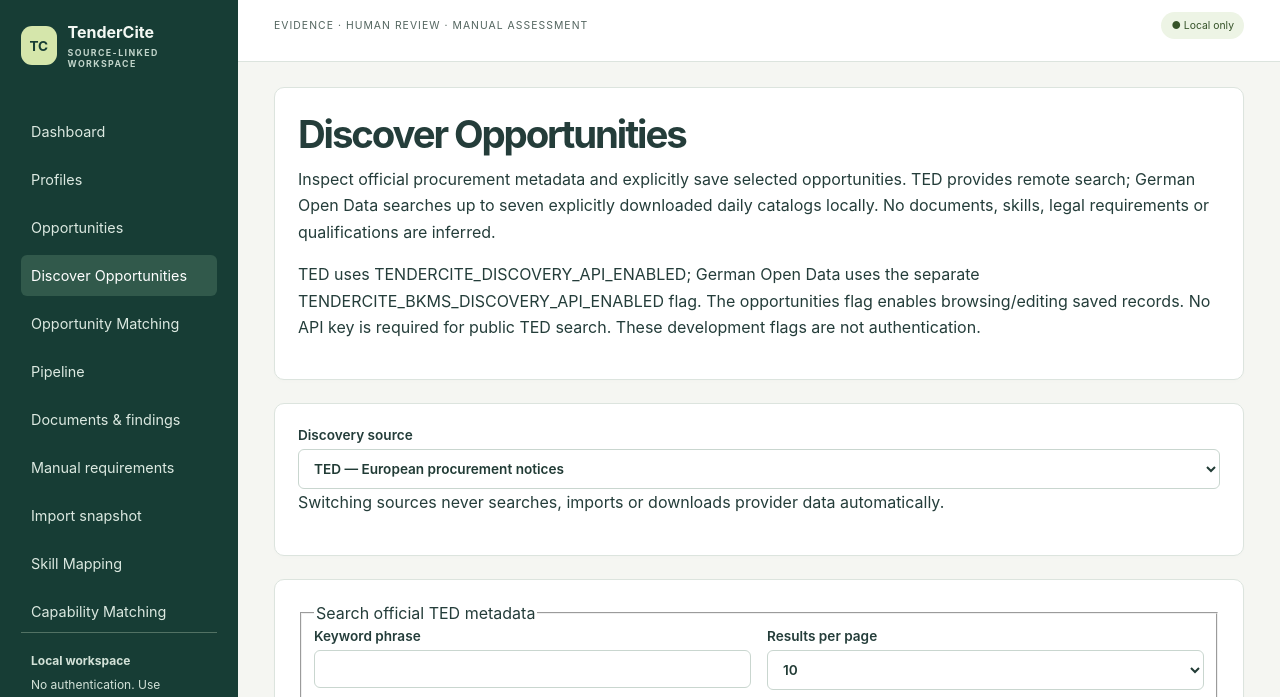
Test: empty results are explicitly scoped to the loaded catalog
Select "German Bekanntmachungsservice — public procurement" in the dropdown labelled "Discovery source" at (759, 469), box [298,449,1220,489]
(page scrolled)
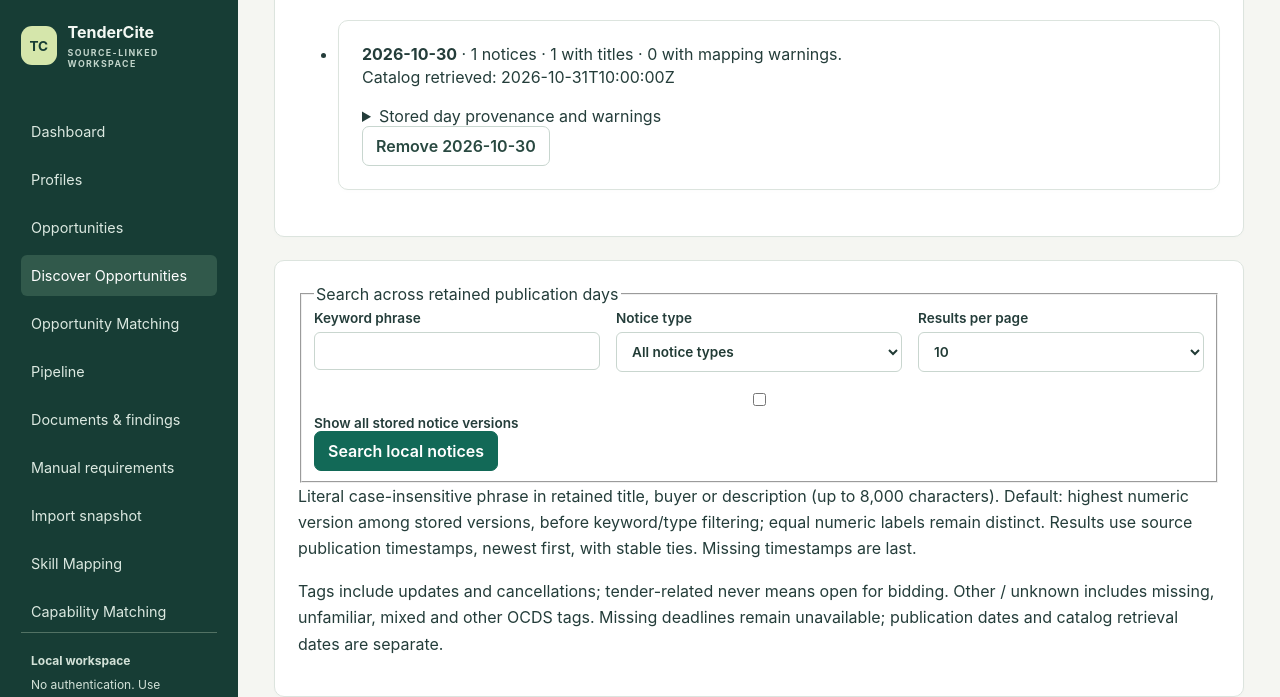
Type "Software" into the field labelled "Keyword phrase".
click(457, 351); type("Software")  # box [314,332,600,370]
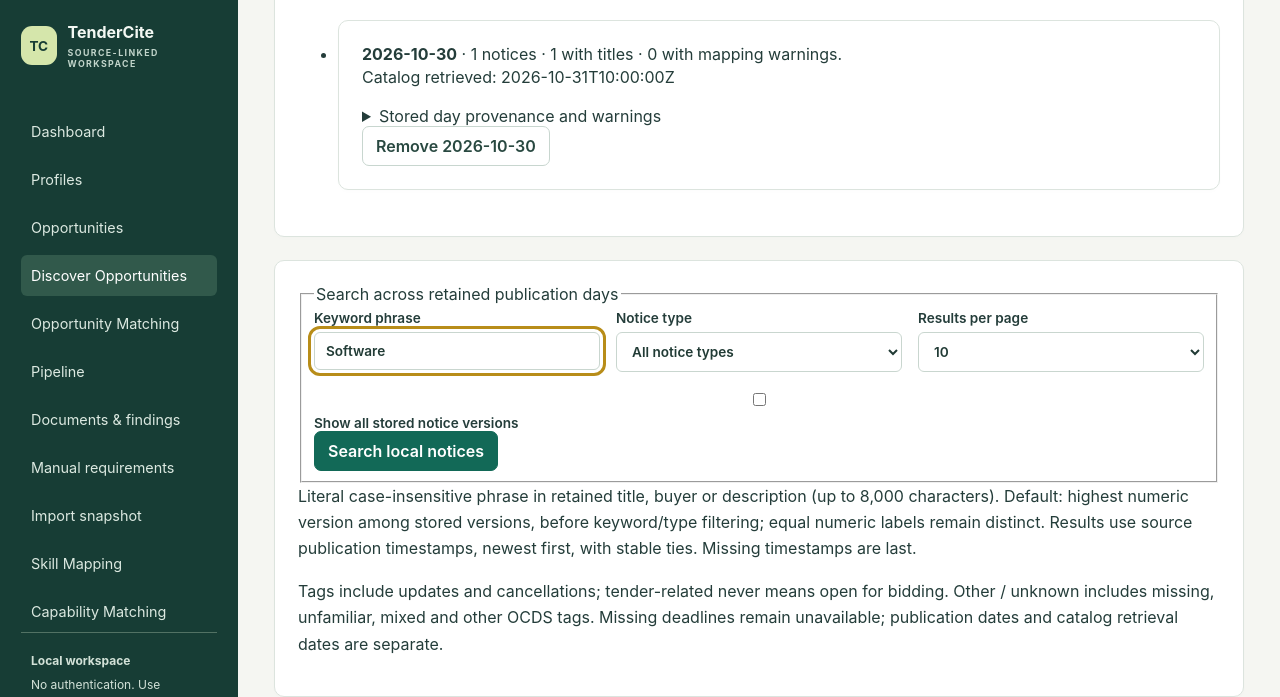
Click the button "Search local notices".
click(406, 451)  # box [314,431,498,471]
(page scrolled)
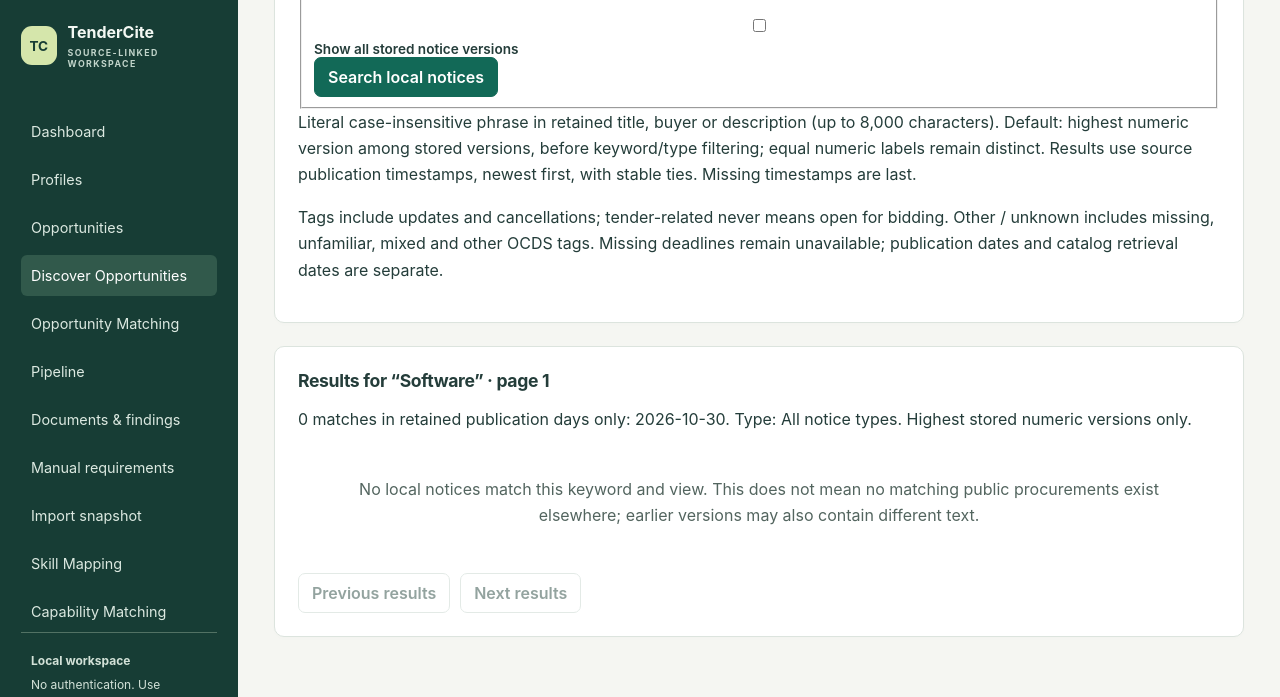
expect the text "No local notices match this keyword and view" is shown: met, box [359,479,1159,525]
